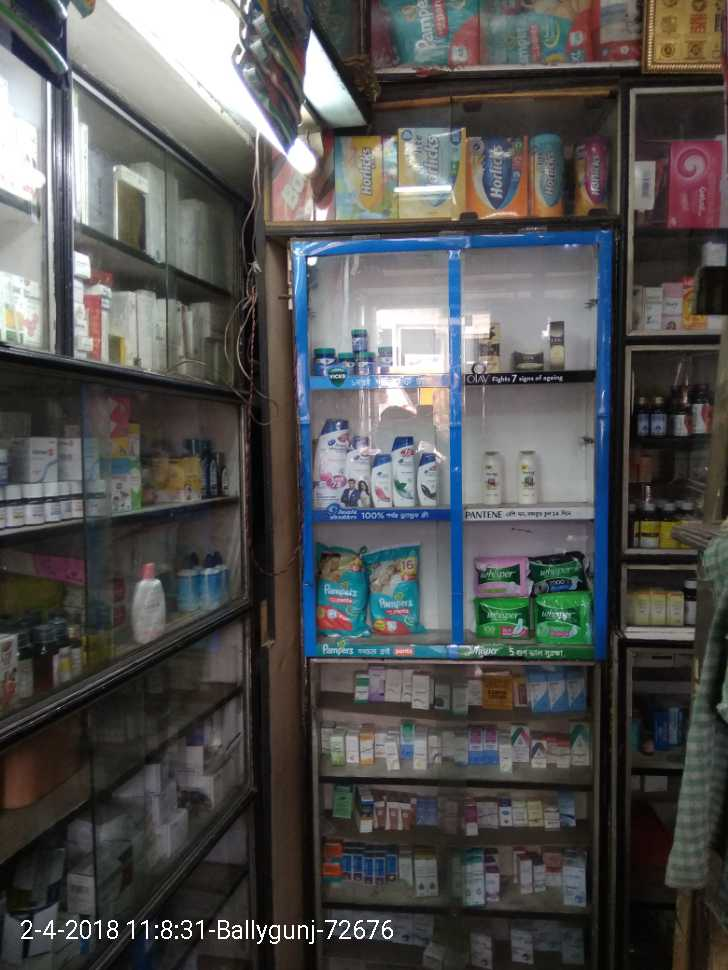vicks: (312, 325, 403, 374)
